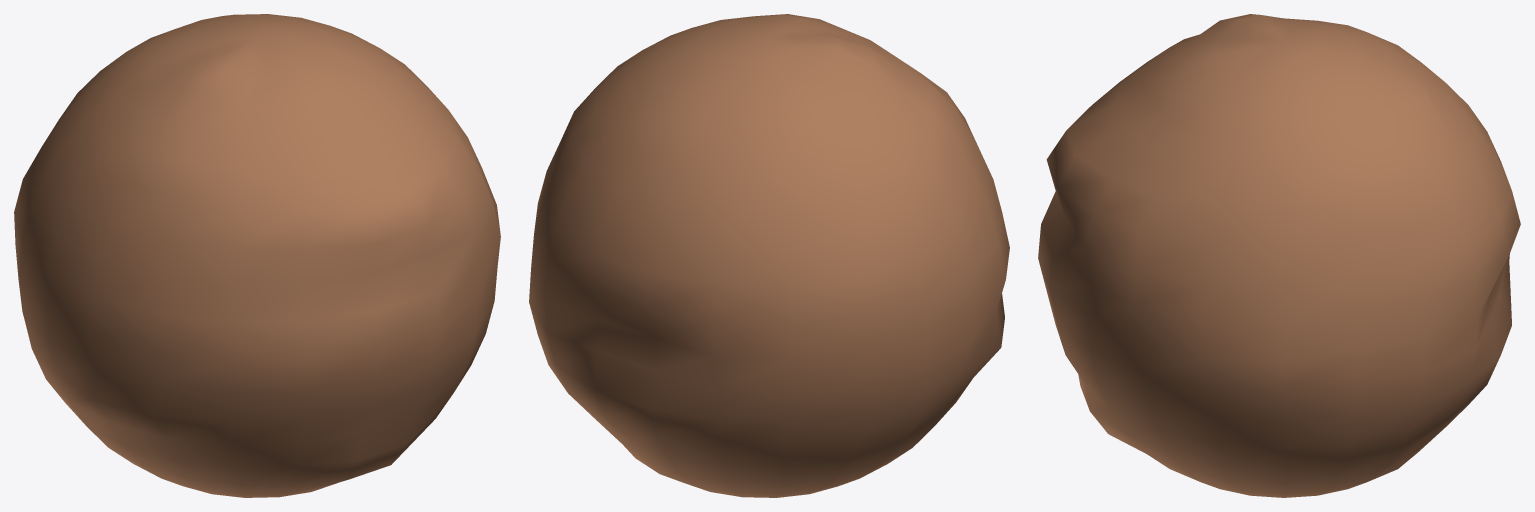
File: planet_1.fbx
3 renders of one model, left to right at view 1: azimuth 30°, elevation 25°; view 2: azimuth 150°, elevation 25°; view 3: azimuth 270°, elevation 25°, orthographic.
Visible parts, largest first — view 1: pSphere1; view 2: pSphere1; view 3: pSphere1.
Part boxes in pixels (x1,y1,x2,y2): pSphere1: (14, 14, 500, 497); pSphere1: (529, 14, 1009, 497); pSphere1: (1038, 14, 1520, 497).
Bounding box in the file's own units: 39.73 × 39.46 × 39.48.
